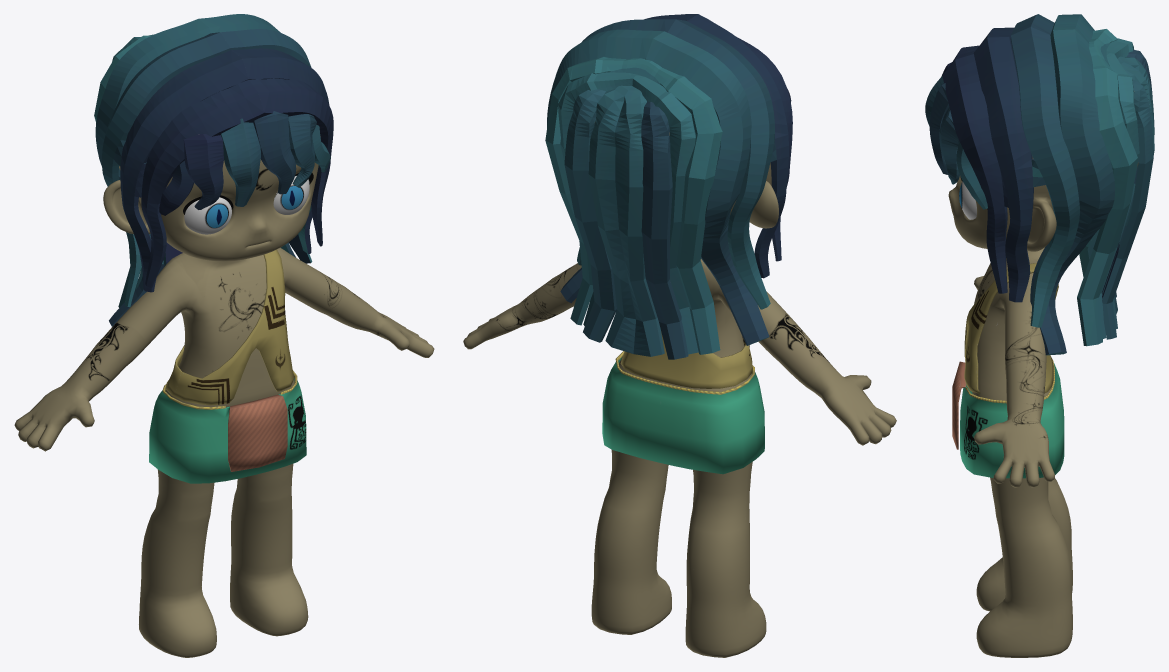
Rendered from PersonajeCompleto.fbx.
The picture shows the model from 3 angles, left to right: view 1: azimuth 30°, elevation 25°; view 2: azimuth 150°, elevation 25°; view 3: azimuth 270°, elevation 25°; orthographic projection. The views are drawn at different scales.
Parts seen in each view (by area): view 1: Cuerpo.003, BézierCurve.004, Ropa.007, Ropa.008; view 2: BézierCurve.004, Cuerpo.003, Ropa.007, Ropa.008; view 3: BézierCurve.004, Cuerpo.003, Ropa.007, Ropa.008.
Part boxes in pixels (x1=…): Cuerpo.003: x1=14, y1=136, x2=434, y2=657; BézierCurve.004: x1=94, y1=14, x2=333, y2=326; Ropa.007: x1=149, y1=370, x2=306, y2=483; Ropa.008: x1=165, y1=249, x2=294, y2=405; BézierCurve.004: x1=545, y1=14, x2=792, y2=359; Cuerpo.003: x1=463, y1=132, x2=896, y2=657; Ropa.007: x1=602, y1=351, x2=764, y2=474; Ropa.008: x1=620, y1=331, x2=752, y2=388; BézierCurve.004: x1=925, y1=14, x2=1154, y2=355; Cuerpo.003: x1=948, y1=91, x2=1138, y2=657; Ropa.007: x1=952, y1=359, x2=1064, y2=478; Ropa.008: x1=964, y1=263, x2=1058, y2=393.
Bounding box in the file's own units: 144 × 204 × 70.7.
Materials: 4 (4 with a texture image).
